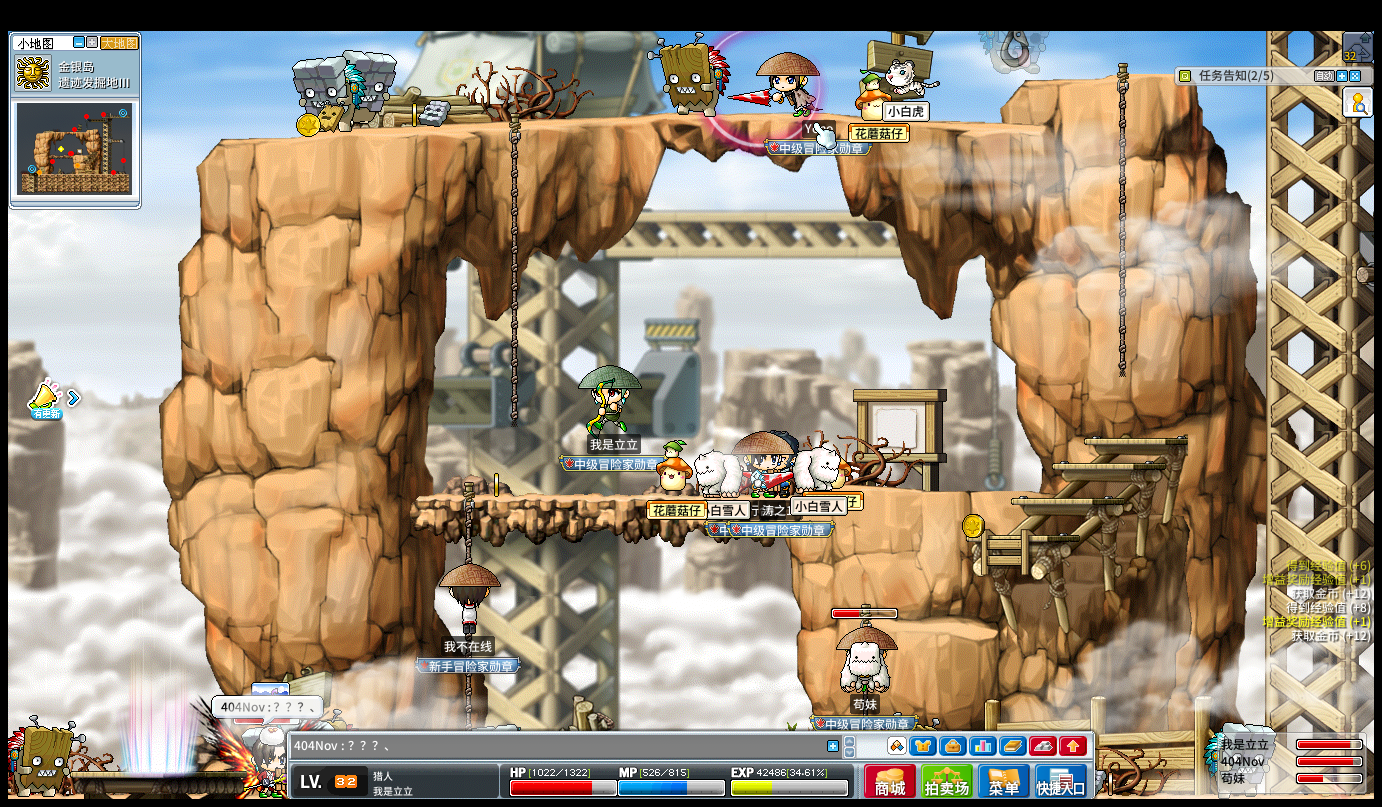floor: (194, 109, 1077, 142), (417, 493, 795, 504), (894, 618, 999, 639), (1021, 72, 1189, 85), (1023, 70, 1178, 83), (890, 487, 1048, 498), (885, 486, 1046, 495), (1082, 436, 1188, 447), (1047, 461, 1165, 470), (964, 533, 1077, 542), (1008, 496, 1122, 504)
monster: (3, 715, 84, 793), (654, 32, 730, 115), (289, 54, 365, 134), (1203, 723, 1273, 793), (358, 51, 397, 130)
rope: (1115, 60, 1129, 378), (508, 111, 519, 433), (459, 480, 475, 563)
